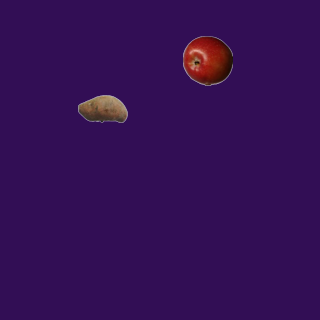Apple Braeburn: (182, 35, 232, 85)
Potato Sweet: (77, 83, 127, 133)
